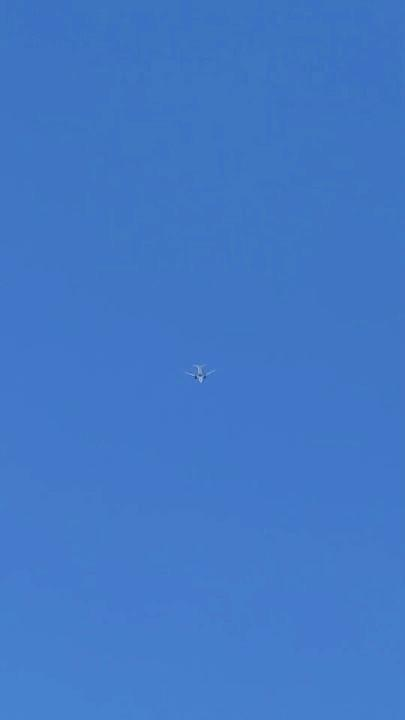Plane: (181, 353, 223, 393)
